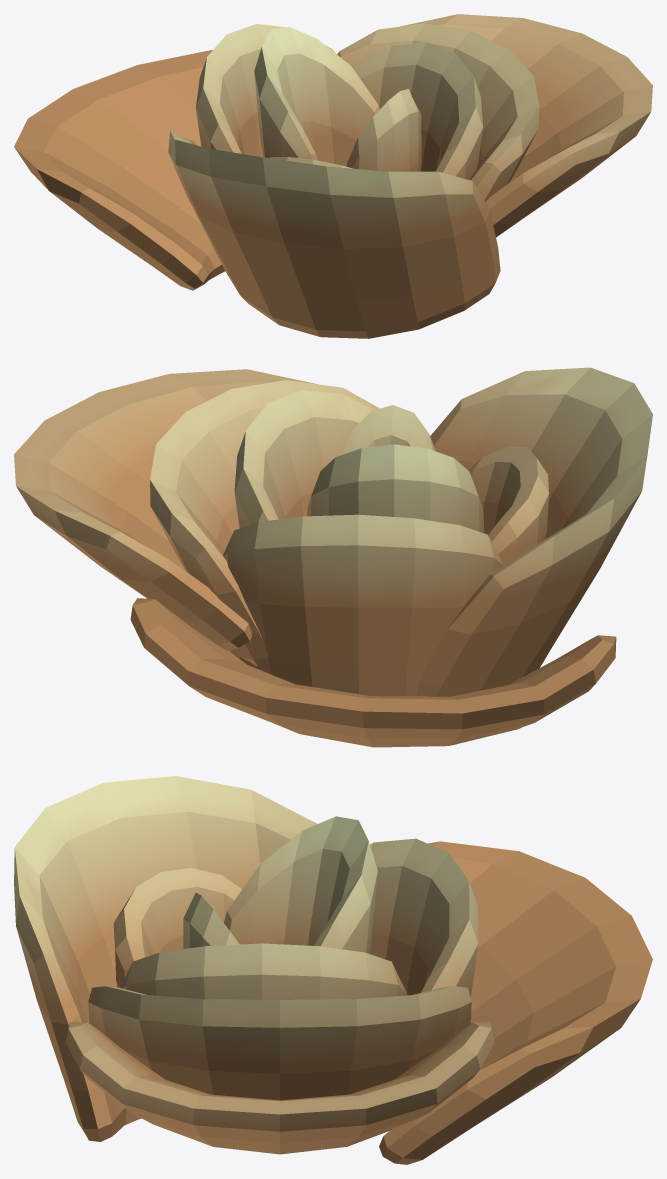
Rendered from Object_Coral_09.fbx.
The picture shows the model from 3 angles, top to bottom: view 1: azimuth 30°, elevation 25°; view 2: azimuth 150°, elevation 25°; view 3: azimuth 270°, elevation 25°; orthographic projection. The views are drawn at different scales.
Parts seen in each view (by area): view 1: CoralTubes.003; view 2: CoralTubes.003; view 3: CoralTubes.003.
Boxes of the visible parts, box(x1,y1,x2,y2) form: CoralTubes.003: box(14, 14, 652, 338); CoralTubes.003: box(14, 367, 652, 747); CoralTubes.003: box(14, 776, 652, 1164).
Size of the model in its own units: 613 by 273 by 530.
